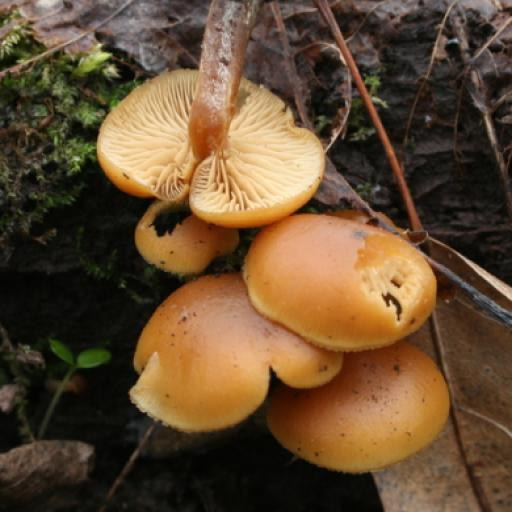mushroom: (74, 48, 465, 467)
